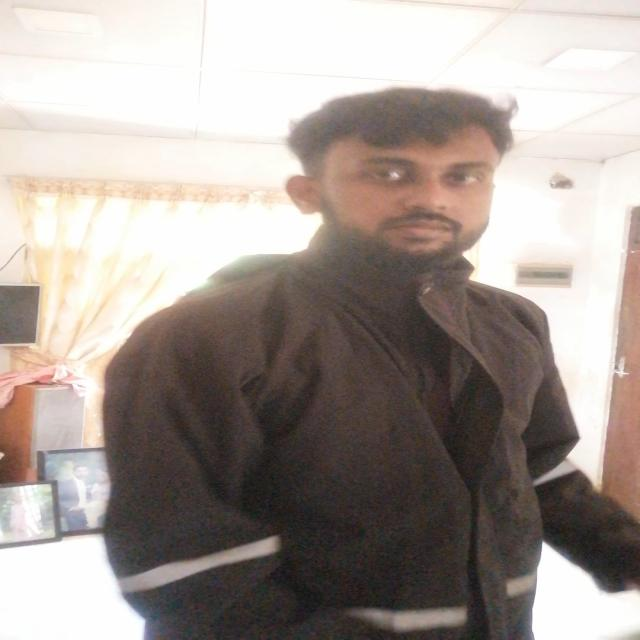Jacket_Wearer: (89, 246, 638, 640)
Person: (83, 82, 640, 640)
